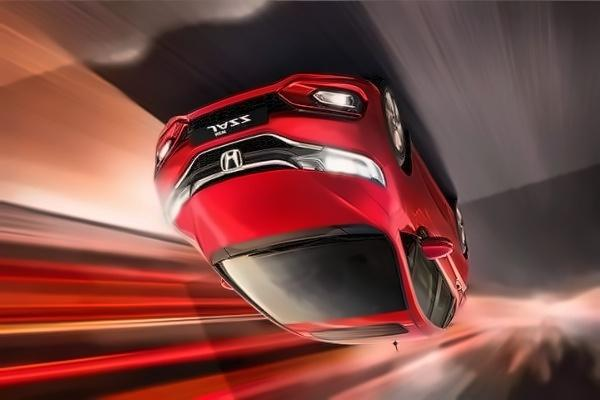Car hood: (174, 164, 395, 263)
Driver-s door - -F-R-: (393, 126, 447, 333)
Fender - -F-R-: (367, 114, 423, 236)
Front bumper: (148, 71, 388, 211)
Headlight - -L-: (159, 181, 190, 235)
Headlight - -R-: (290, 144, 386, 187)
Passenger-s door - -R-R-: (430, 190, 475, 342)
Side bumper - -R-: (408, 141, 458, 238)
Side mirror - -R-: (397, 232, 453, 264)
